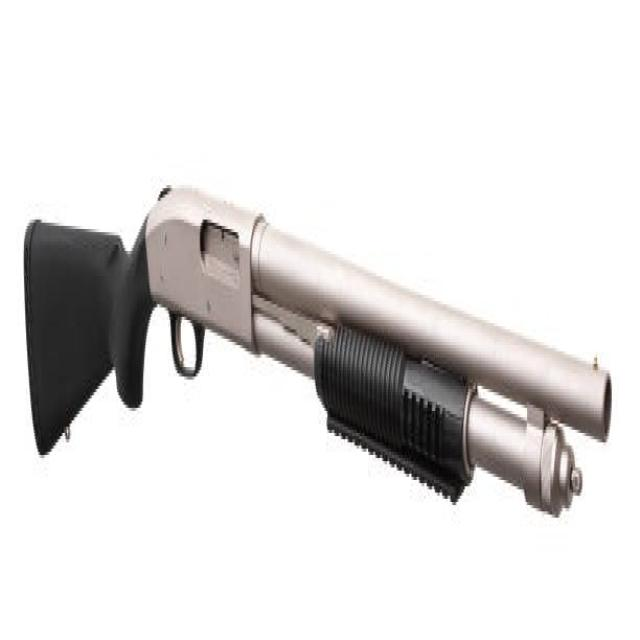rifle: (20, 169, 615, 567)
